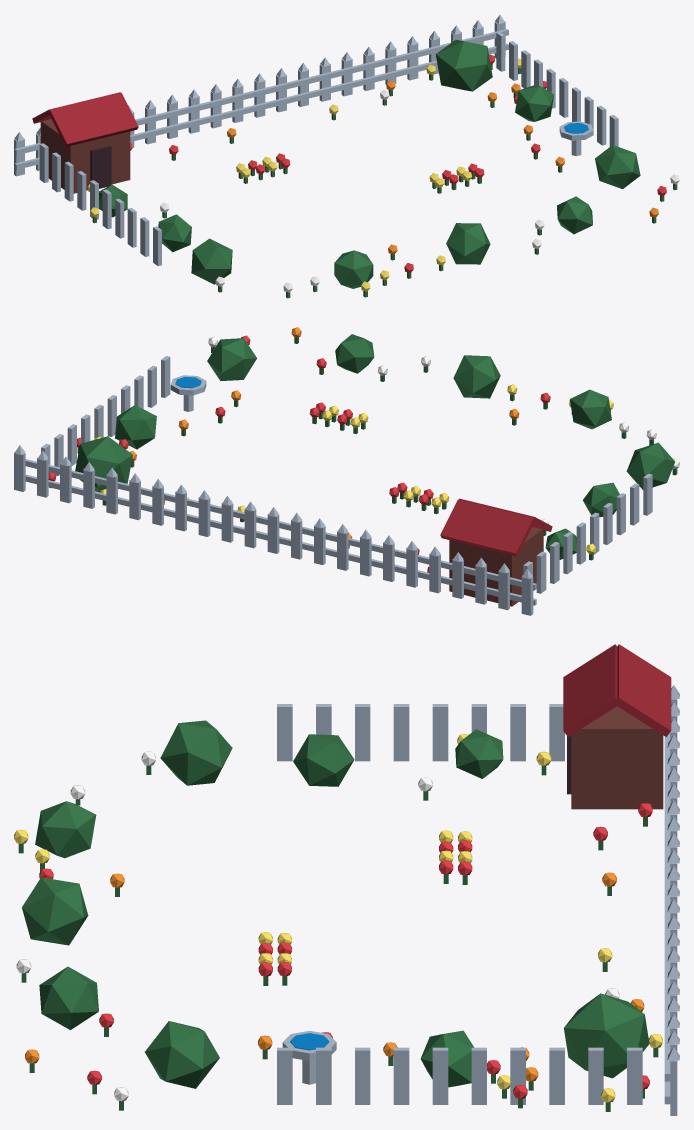
The model's file is garden.glb.
The picture shows the model from 3 angles, top to bottom: view 1: azimuth 30°, elevation 25°; view 2: azimuth 150°, elevation 25°; view 3: azimuth 270°, elevation 25°; orthographic projection. The views are drawn at different scales.
Parts seen in each view (by area): view 1: Fence, Flowers, RoofL, Shed, RailHi, RailLo, Bush4, Bush6, Bush2, Bush0, Bush5, Bush3 (+3 smaller); view 2: Fence, Flowers, RoofR, Shed, RailLo, RailHi, Bush4, Bush6, Bush2, Bush0, Bush3, Bush5 (+3 smaller); view 3: Fence, Flowers, Shed, Bush4, RoofL, RoofR, Bush2, Bush6, Bush0, Bush7, Bush5, Bush1 (+3 smaller).
Part boxes in pixels (x1=…): Fence: x1=14, y1=15, x2=618, y2=266; Flowers: x1=87, y1=54, x2=679, y2=298; RoofL: x1=49, y1=93, x2=138, y2=146; Shed: x1=40, y1=119, x2=130, y2=193; RailHi: x1=14, y1=29, x2=508, y2=155; RailLo: x1=14, y1=43, x2=508, y2=169; Bush4: x1=435, y1=40, x2=492, y2=91; Bush6: x1=446, y1=223, x2=490, y2=264; Bush2: x1=595, y1=145, x2=640, y2=189; Bush0: x1=191, y1=238, x2=232, y2=284; Bush5: x1=334, y1=250, x2=373, y2=288; Bush3: x1=515, y1=85, x2=553, y2=121; Fence: x1=14, y1=356, x2=652, y2=615; Flowers: x1=48, y1=327, x2=679, y2=572; RoofR: x1=440, y1=499, x2=534, y2=556; Shed: x1=449, y1=527, x2=543, y2=606; RailLo: x1=25, y1=474, x2=536, y2=605; RailHi: x1=25, y1=459, x2=536, y2=590; Bush4: x1=75, y1=436, x2=132, y2=492; Bush6: x1=453, y1=355, x2=500, y2=398; Bush2: x1=207, y1=338, x2=256, y2=381; Bush0: x1=626, y1=442, x2=675, y2=489; Bush3: x1=115, y1=405, x2=156, y2=449; Bush5: x1=570, y1=389, x2=611, y2=429; Fence: x1=277, y1=685, x2=679, y2=1115; Flowers: x1=14, y1=734, x2=662, y2=1111; Shed: x1=571, y1=706, x2=663, y2=809; Bush4: x1=564, y1=993, x2=649, y2=1078; RoofL: x1=563, y1=644, x2=619, y2=736; RoofR: x1=616, y1=644, x2=671, y2=736; Bush2: x1=145, y1=1021, x2=219, y2=1088; Bush6: x1=22, y1=877, x2=88, y2=945; Bush0: x1=160, y1=720, x2=232, y2=785; Bush7: x1=39, y1=966, x2=98, y2=1029; Bush5: x1=35, y1=801, x2=96, y2=858; Bush1: x1=293, y1=734, x2=354, y2=786.
Size of the model in its own units: 12.4 by 1.93 by 9.42.
